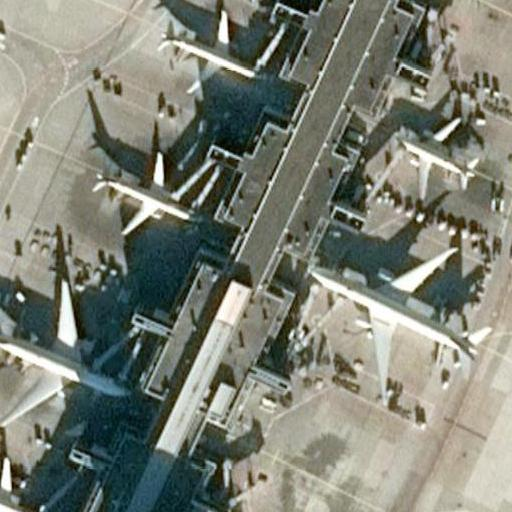Aircraft: (303, 243, 475, 390), (0, 278, 129, 426), (91, 153, 198, 240), (162, 6, 269, 88), (0, 456, 48, 512)
